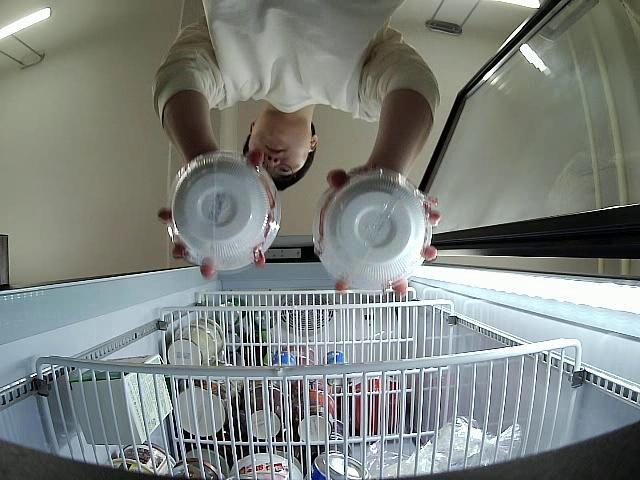09_yukGaeJang: (313, 171, 432, 288), (174, 152, 280, 270)
